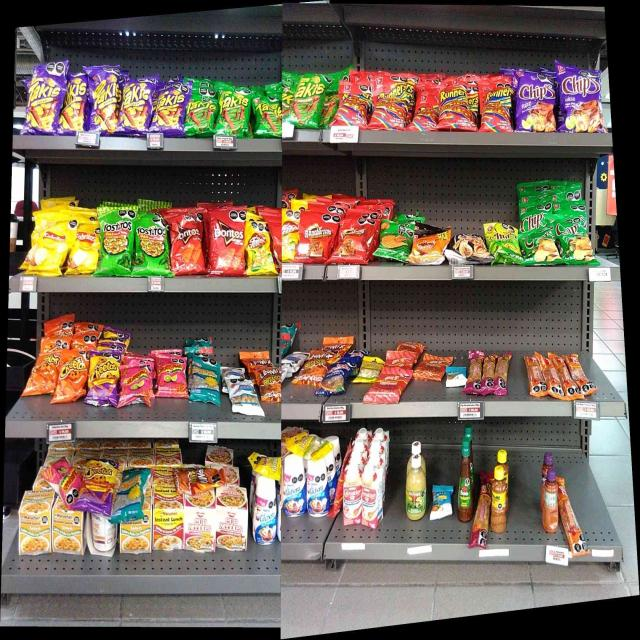bitzAlmendras: (431, 486, 452, 518), (446, 368, 466, 387)
bitzEnchilado90: (379, 370, 407, 400), (418, 356, 445, 379), (384, 352, 414, 369)
bitzEnchilado95: (560, 482, 584, 552), (574, 356, 593, 394), (528, 355, 542, 397), (558, 356, 572, 397), (544, 355, 556, 396)
bitzHabanero: (475, 477, 489, 548), (468, 351, 481, 393), (495, 354, 508, 396), (482, 354, 494, 394)
bokadosCacahuates: (329, 361, 353, 394)
botaneraChilito: (491, 466, 507, 533)
cheetosFlaminHot: (84, 461, 114, 512), (90, 351, 117, 404)
cheetosOriginal: (29, 352, 58, 395), (61, 352, 85, 399)
chipsFuego: (558, 63, 602, 133), (516, 71, 555, 131)
chipsJalapeno: (559, 217, 591, 264), (524, 232, 556, 265), (521, 207, 551, 230)
chipsPapatinas: (489, 224, 518, 264)
churrumais: (120, 365, 150, 406), (157, 357, 187, 398), (50, 461, 79, 502)
delPrimoSalsa: (405, 454, 427, 521)
doritosNacho: (210, 209, 244, 276), (172, 212, 203, 276)
fritosLimon: (246, 222, 272, 274), (282, 210, 299, 262)
hotNutsOriginal: (412, 229, 447, 263)
leoCacahuates: (230, 379, 256, 413)
leoMix: (299, 351, 329, 383), (177, 466, 214, 491), (259, 365, 280, 401)
maruchanPollo: (18, 494, 50, 556), (52, 507, 81, 554), (120, 523, 152, 554)
maruchanRes: (153, 492, 183, 550)
nestleCarnation: (362, 464, 383, 527), (344, 463, 361, 525)
nestleLechera: (253, 478, 277, 544), (306, 460, 329, 516), (284, 458, 305, 515)
nissinCamaron: (185, 496, 215, 553)
nissinRes: (216, 487, 247, 550)
popKarameladas: (449, 235, 487, 263)
rancheritos: (300, 215, 335, 263), (337, 219, 375, 262)
rufflesQueso: (378, 228, 411, 260)
runners: (373, 77, 405, 131), (439, 87, 470, 130), (482, 90, 511, 132), (338, 90, 368, 130)
sabritasOriginal: (33, 220, 69, 275), (72, 224, 98, 276)
salsaBufalo: (457, 437, 472, 523)
semillasCalabaza: (290, 433, 328, 457), (252, 452, 281, 476), (360, 359, 378, 383)
semillasGirasol: (116, 469, 148, 522), (192, 360, 218, 406)
tajinDulce: (542, 468, 558, 532)
takisFuego: (29, 63, 59, 134), (90, 66, 116, 136), (123, 78, 149, 135), (152, 85, 182, 134), (64, 72, 86, 135)
takisOriginal: (291, 75, 324, 126), (218, 89, 248, 137), (254, 94, 280, 139), (187, 96, 215, 137)
tostitos: (100, 208, 133, 276), (137, 215, 168, 277)
